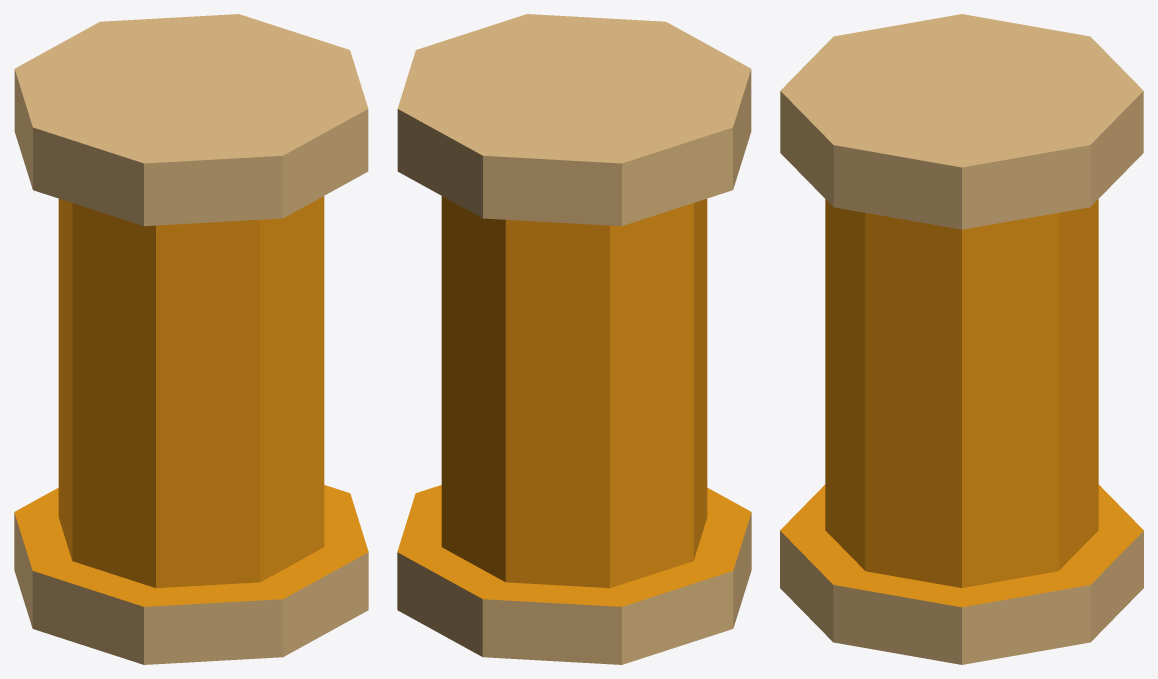
Rendered from thread.glb.
The picture shows the model from 3 angles, left to right: view 1: azimuth 30°, elevation 25°; view 2: azimuth 150°, elevation 25°; view 3: azimuth 270°, elevation 25°; orthographic projection.
Visible parts, largest first — view 1: thread; view 2: thread; view 3: thread.
Part boxes in pixels (left/top/right/bottom): thread: left=14, top=14, right=368, bottom=664; thread: left=397, top=14, right=751, bottom=664; thread: left=780, top=14, right=1143, bottom=664.
Size of the model in its own units: 0.119 by 0.1795 by 0.119.
